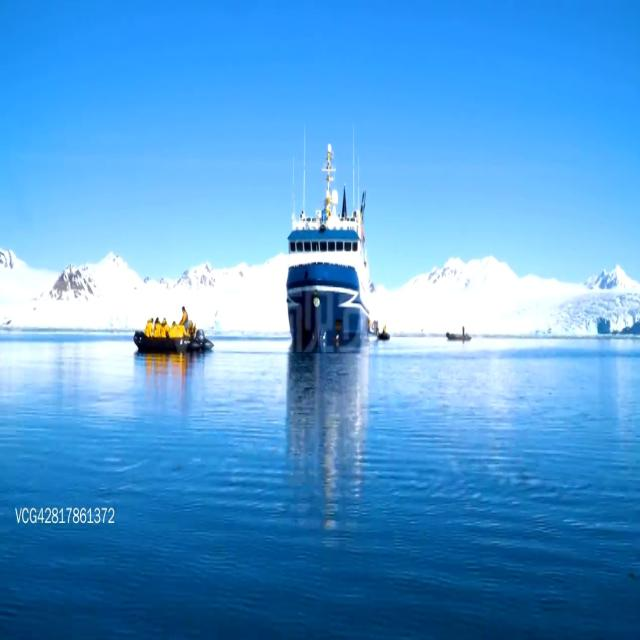houseboat: (132, 303, 209, 360), (446, 324, 469, 344), (376, 320, 390, 343)
passenger ship: (286, 131, 371, 349)
